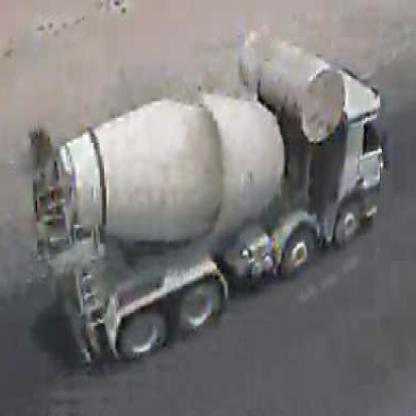truck: (37, 49, 381, 355)
